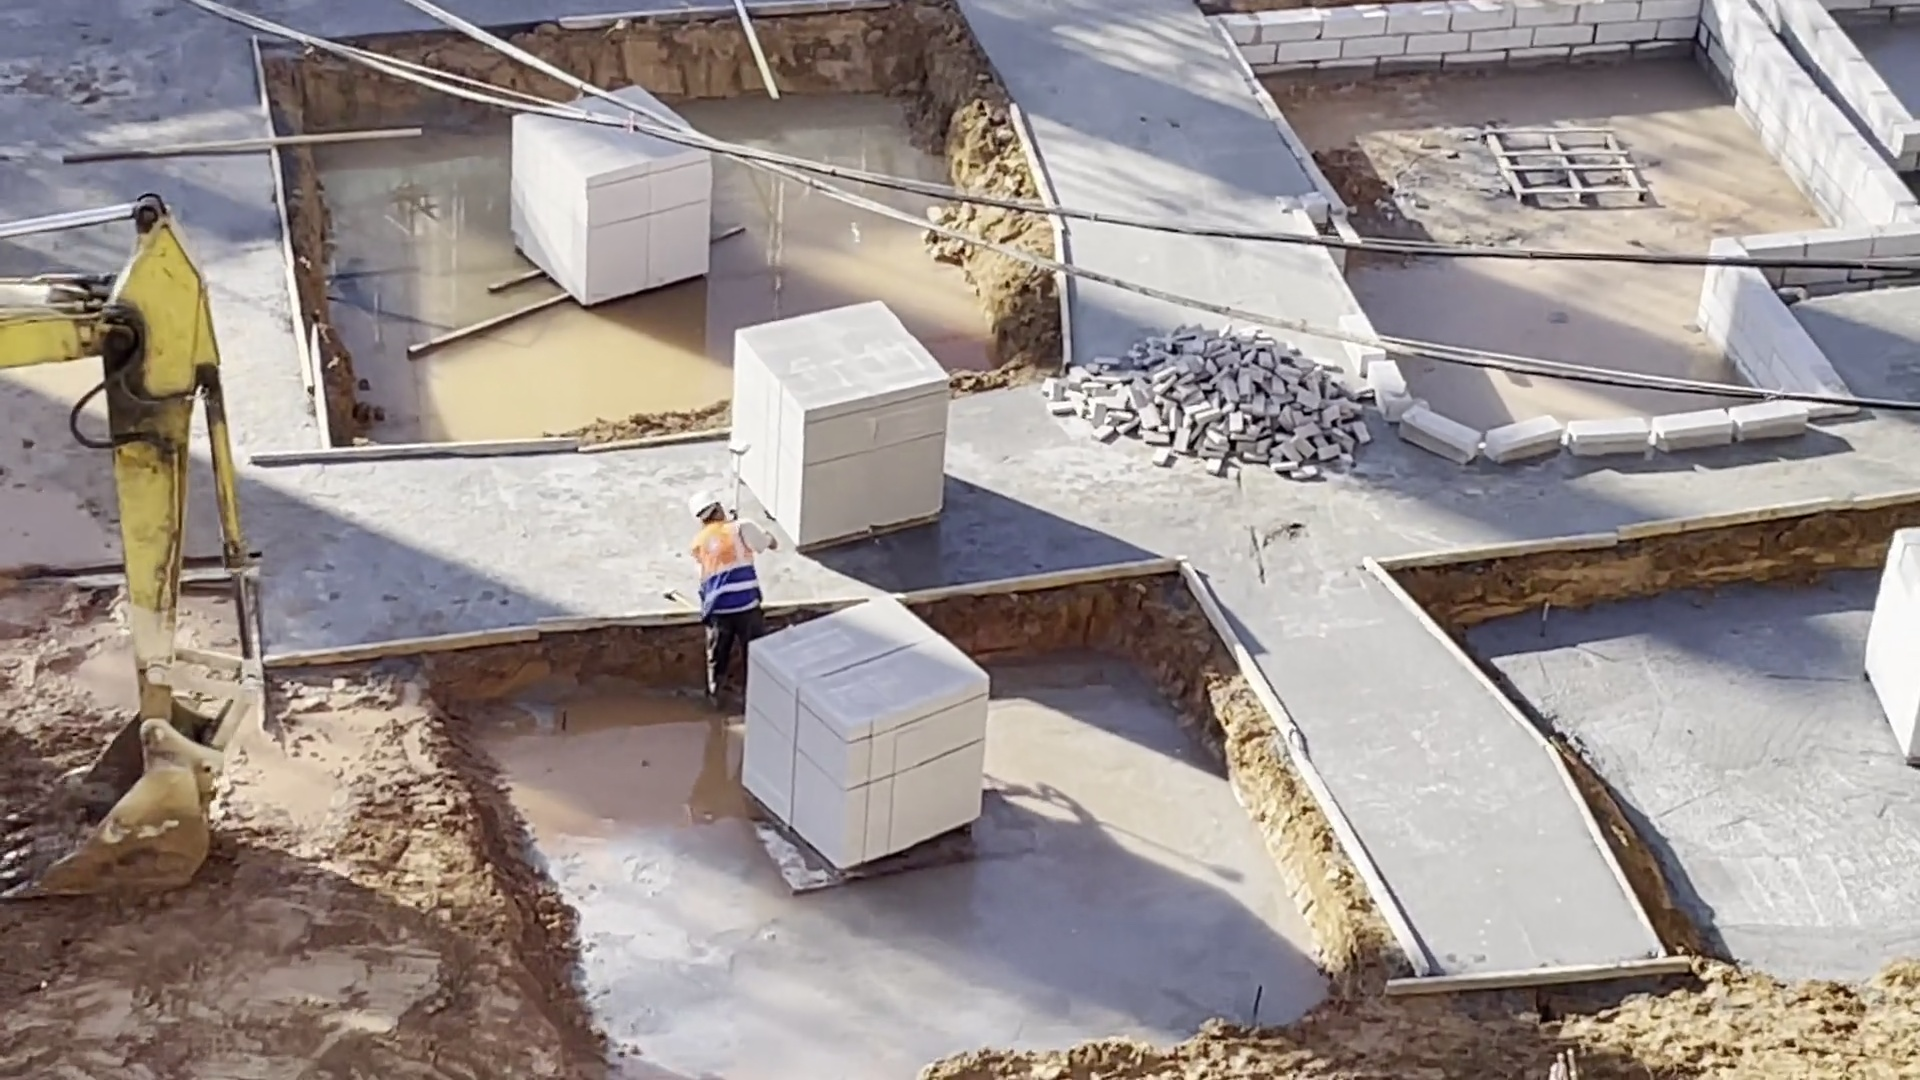brick: (733, 592, 988, 882), (706, 295, 951, 551), (1042, 319, 1381, 488), (495, 84, 716, 312)
helmet: (690, 482, 723, 514)
person: (694, 480, 766, 724)
vest: (688, 521, 760, 630)
